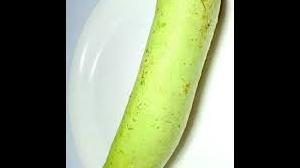bottle gourd: (99, 0, 222, 167), (65, 0, 157, 167)
